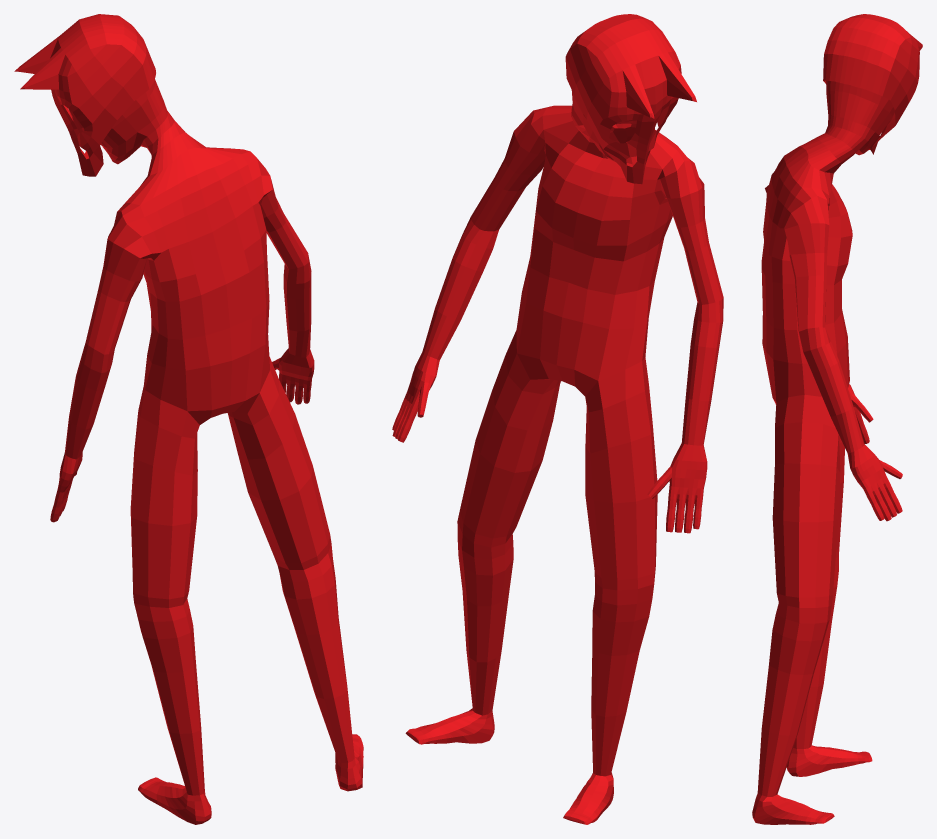
The model's file is reposoE_000267.obj.
3 renders of one model, left to right at view 1: azimuth 30°, elevation 25°; view 2: azimuth 150°, elevation 25°; view 3: azimuth 270°, elevation 25°, orthographic. The views are drawn at different scales.
Visible parts, largest first — view 1: Plane.002_Plane.001; view 2: Plane.002_Plane.001; view 3: Plane.002_Plane.001.
Boxes of the visible parts, x1=… form: Plane.002_Plane.001: x1=14, y1=14, x2=363, y2=824; Plane.002_Plane.001: x1=392, y1=14, x2=723, y2=824; Plane.002_Plane.001: x1=752, y1=14, x2=922, y2=824.
Bounding box in the file's own units: 2.87 × 7 × 1.48.
